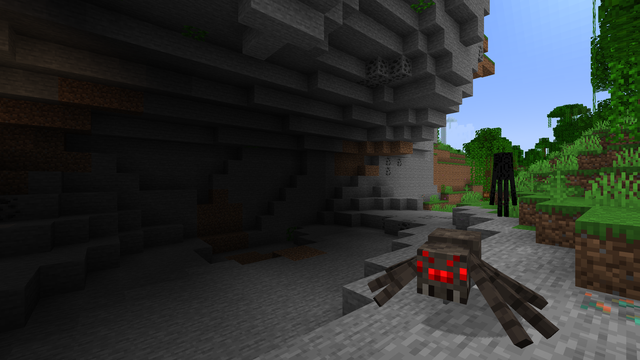araignees: (373, 222, 528, 352)
endermens: (493, 149, 513, 217)
